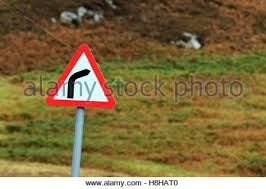Bend_to_right: (42, 42, 118, 111)
